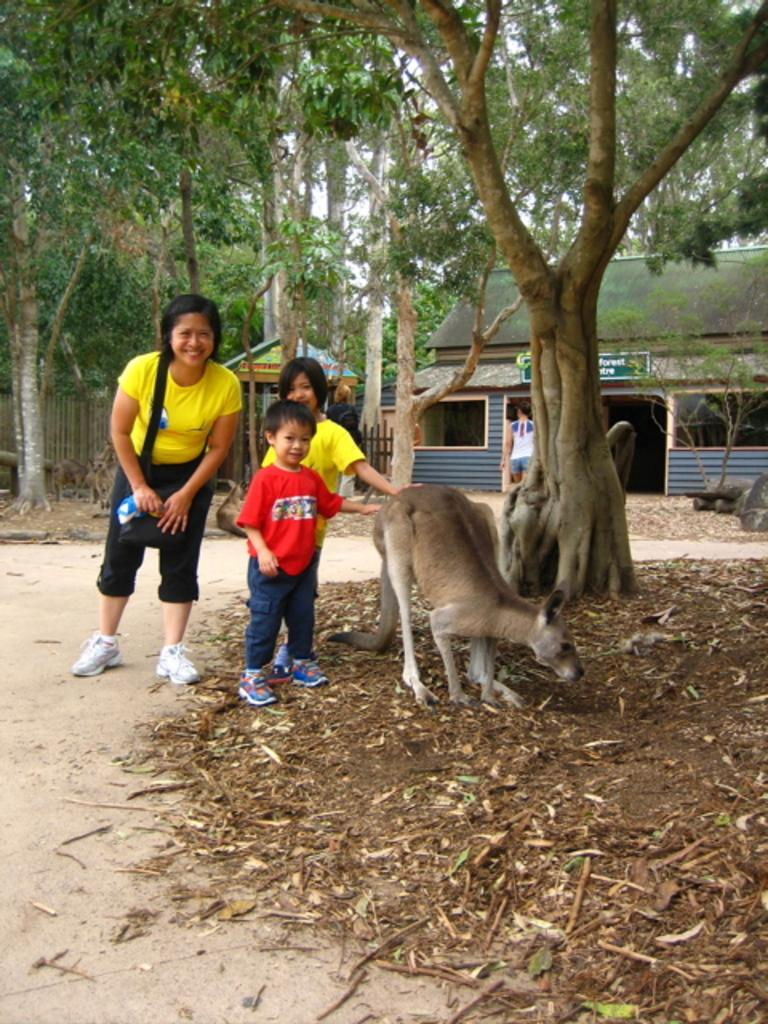kangaroo: (324, 488, 590, 707)
